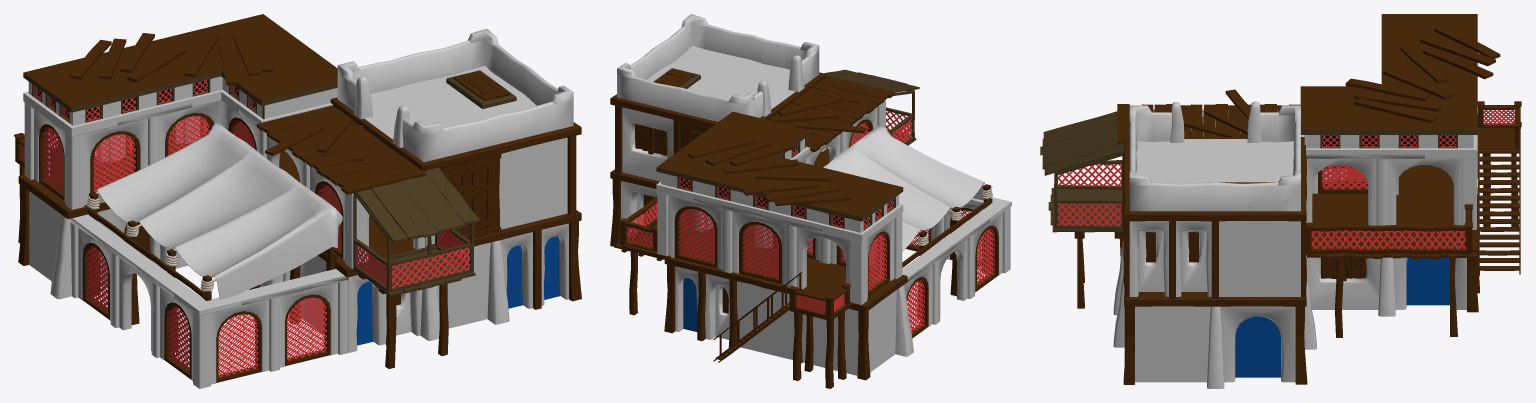
The model's file is Desert_house_free.FBX.
3 views of the same model, side by side, from view 1: azimuth 30°, elevation 25°; view 2: azimuth 150°, elevation 25°; view 3: azimuth 270°, elevation 25° (orthographic). The views are drawn at different scales.
Parts seen in each view (by area): view 1: Object308; view 2: Object308; view 3: Object308.
Part boxes in pixels (bbox=[...]): Object308: bbox=[14, 14, 581, 388]; Object308: bbox=[610, 14, 1011, 388]; Object308: bbox=[1040, 14, 1521, 388].
Size of the model in its own units: 1612 by 808 by 1685.
